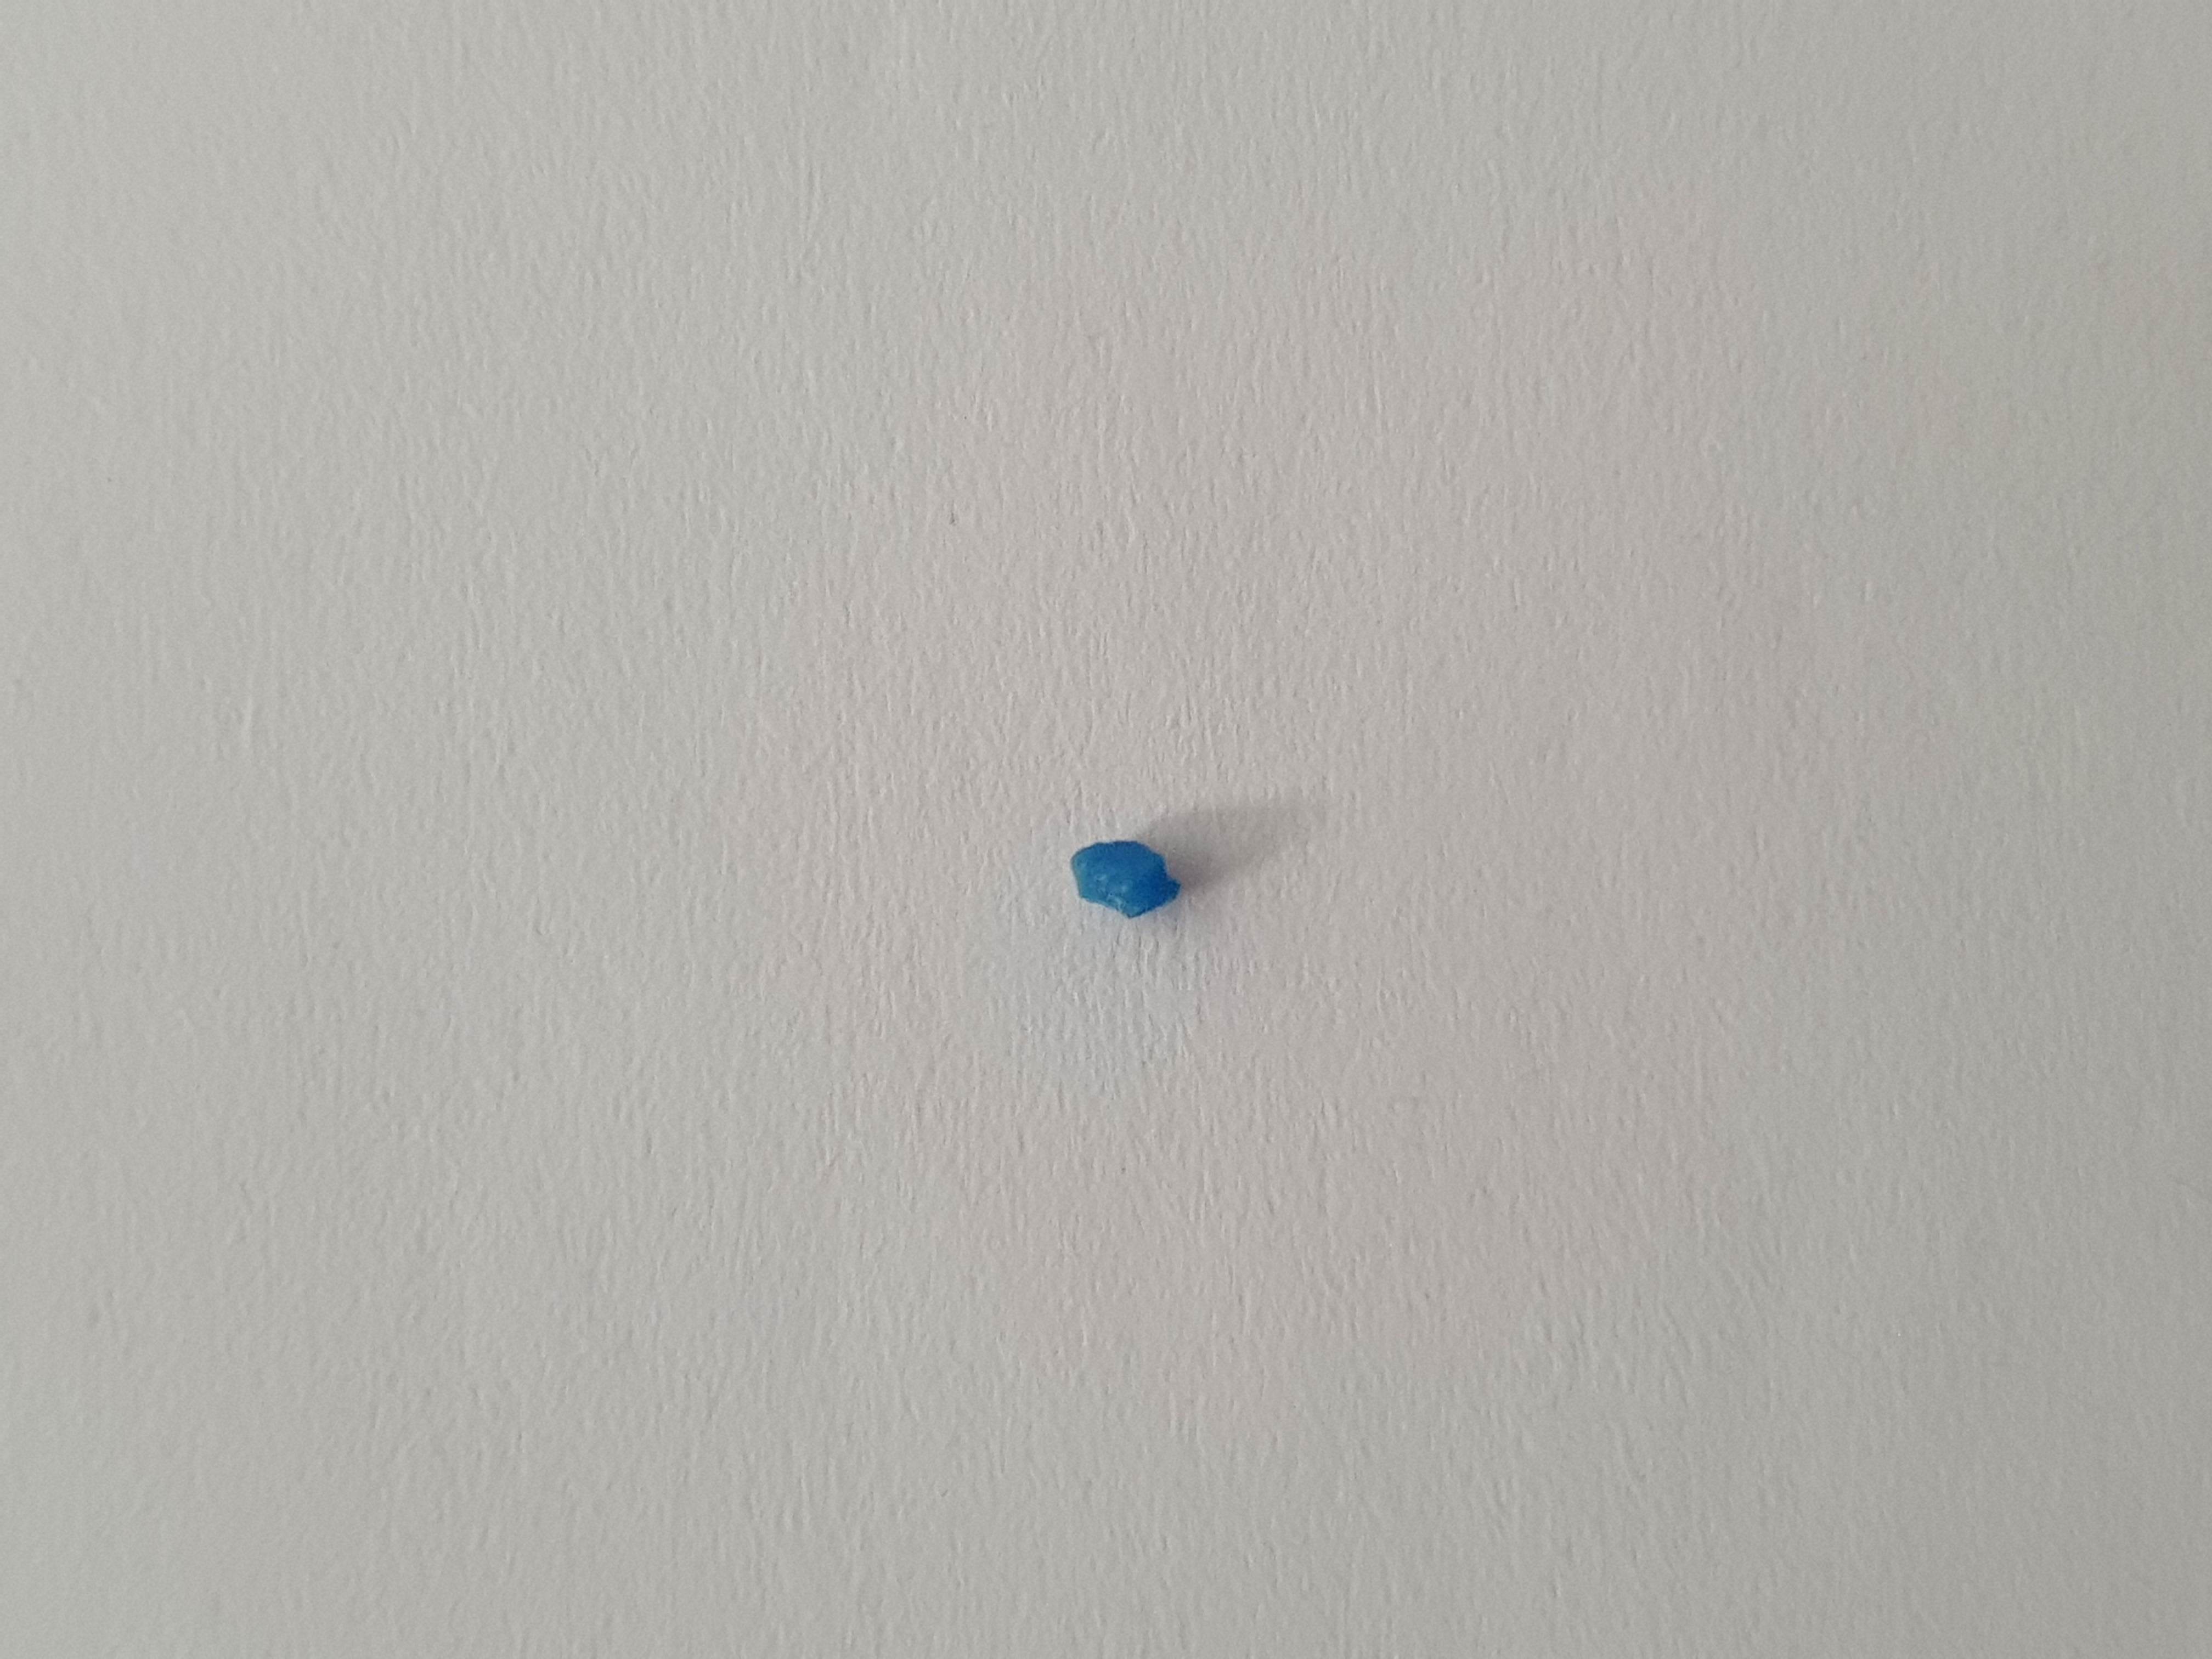plastic: (1059, 828, 1204, 934)
